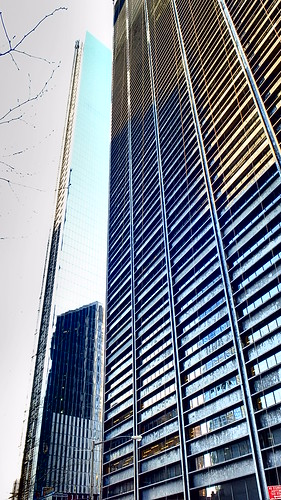building: (97, 1, 281, 485), (24, 29, 114, 500)
